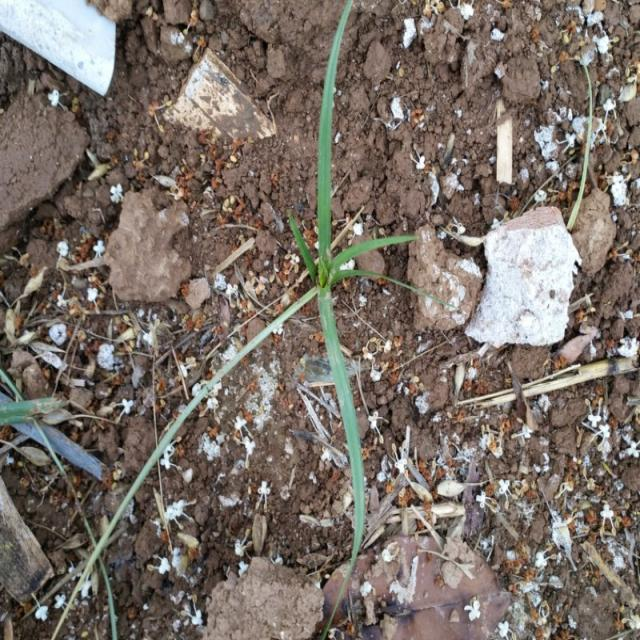sedge: (251, 21, 456, 573)
